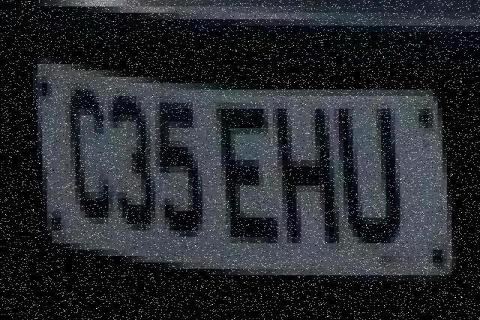LicensePlate: (32, 52, 456, 276)
